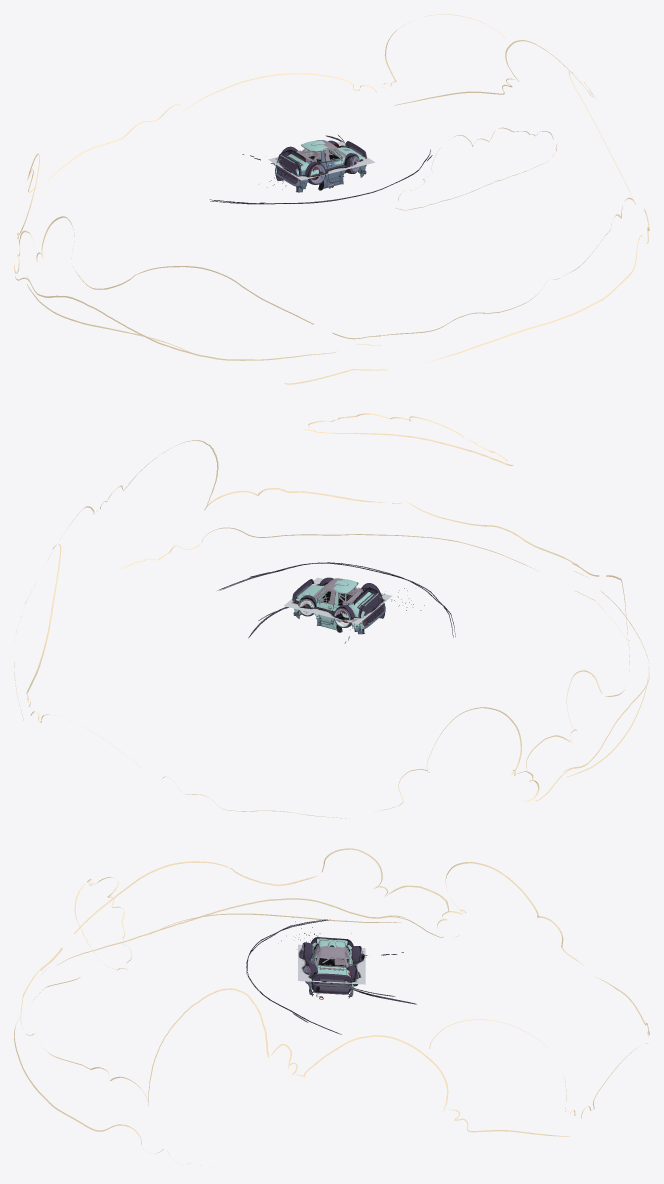
File: Car_secondCompressed.glb
3 renders of one model, top to bottom at view 1: azimuth 30°, elevation 25°; view 2: azimuth 150°, elevation 25°; view 3: azimuth 270°, elevation 25°, orthographic.
Visible parts, largest first — view 1: GP_Layer_CUGP_Layer_0, Cube.001_0, Cube.004_0, Plane.004_0, Cube.005_0, Plane_0; view 2: GP_Layer_CUGP_Layer_0, Cube.001_0, Plane.004_0, Plane_0, Cube.004_0, Cube.005_0; view 3: GP_Layer_CUGP_Layer_0, Cube.004_0, Cube.001_0, Plane.004_0, Plane_0, Cube.005_0, Cube.002_0.
Part boxes in pixels (x1,y1,x2,y2): GP_Layer_CUGP_Layer_0: (14, 14, 649, 384); Cube.001_0: (275, 140, 366, 192); Cube.004_0: (276, 141, 366, 183); Plane.004_0: (268, 141, 375, 180); Cube.005_0: (281, 140, 359, 184); Plane_0: (210, 135, 432, 204); GP_Layer_CUGP_Layer_0: (14, 413, 649, 818); Cube.001_0: (293, 579, 385, 634); Plane.004_0: (284, 577, 392, 624); Plane_0: (217, 562, 455, 643); Cube.004_0: (292, 579, 383, 625); Cube.005_0: (298, 577, 379, 627); GP_Layer_CUGP_Layer_0: (14, 848, 649, 1167); Cube.004_0: (311, 937, 353, 994); Cube.001_0: (308, 936, 354, 999); Plane.004_0: (298, 944, 365, 984); Plane_0: (246, 917, 416, 1034); Cube.005_0: (301, 942, 362, 986); Cube.002_0: (314, 946, 350, 969).
Size of the model in its own units: 1911666 by 657035 by 1954046.
7 materials, 5 textured.
